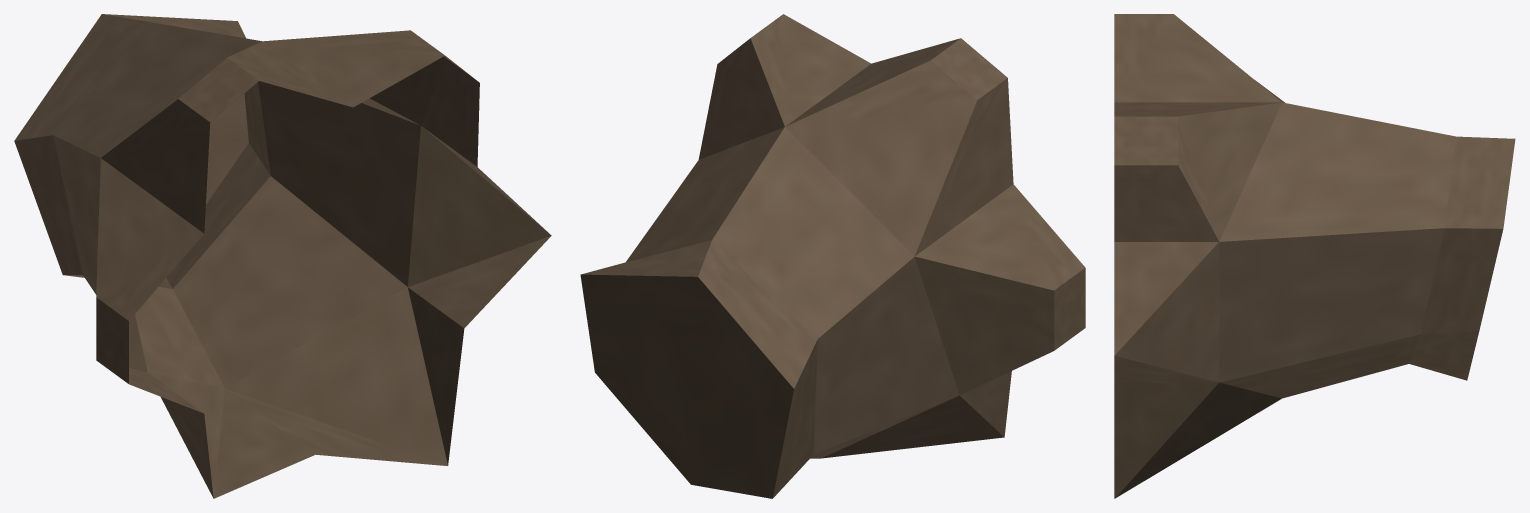
Rendered from dead_tree_body_1.fbx.
3 views of the same model, side by side, from view 1: azimuth 30°, elevation 25°; view 2: azimuth 150°, elevation 25°; view 3: azimuth 270°, elevation 25° (orthographic). The views are drawn at different scales.
Parts seen in each view (by area): view 1: Cylinder.013; view 2: Cylinder.013; view 3: Cylinder.013.
Part boxes in pixels (x1,y1,x2,y2): Cylinder.013: (14,14,551,498); Cylinder.013: (580,14,1085,498); Cylinder.013: (1114,14,1515,498).
Size of the model in its own units: 246 by 240 by 218.
